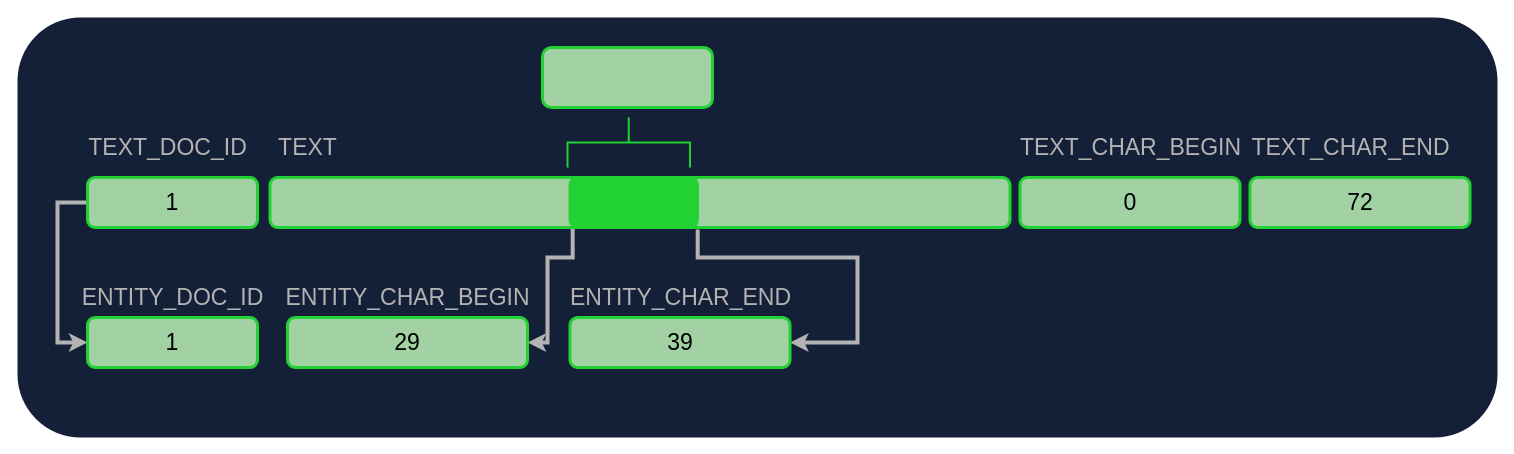
This 1514x454 diagram has some shape labels left out. The centre of each missing label's shape, as x and y in pixels:
"I'm having an issue with the GoPro Hero. It's affecting my productivity." belongs at point 633,202.
"Named Entity" belongs at point 627,77.
